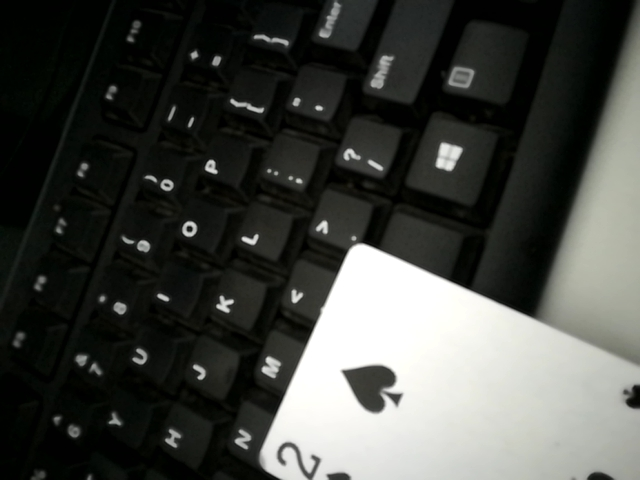ht 2: (241, 233, 640, 479)
